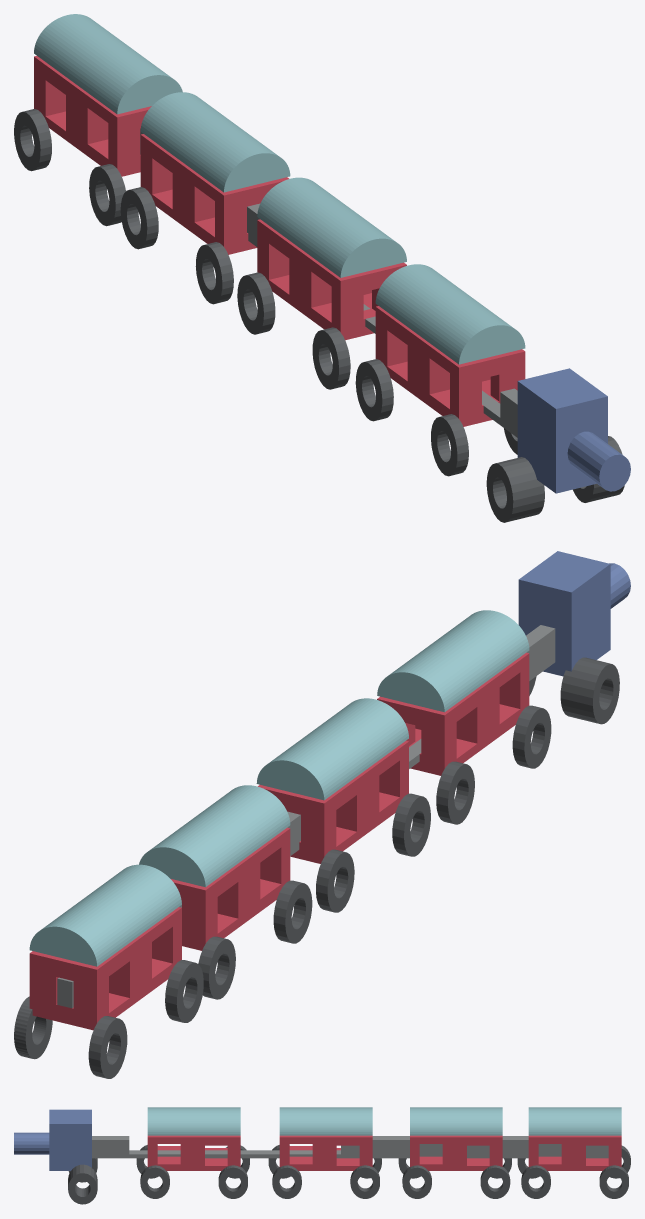
The model's file is Smooth Blad-Sango.glb.
3 views of the same model, one above another, from view 1: azimuth 30°, elevation 25°; view 2: azimuth 150°, elevation 25°; view 3: azimuth 270°, elevation 25° (orthographic). The views are drawn at different scales.
Parts seen in each view (by area): view 1: Mesh_Mesh_head_geo.001_lambert2SG.001; view 2: Mesh_Mesh_head_geo.001_lambert2SG.001; view 3: Mesh_Mesh_head_geo.001_lambert2SG.001.
Boxes of the visible parts, box(x1,y1,x2,y2) form: Mesh_Mesh_head_geo.001_lambert2SG.001: box(14, 14, 630, 522); Mesh_Mesh_head_geo.001_lambert2SG.001: box(14, 551, 630, 1078); Mesh_Mesh_head_geo.001_lambert2SG.001: box(14, 1107, 630, 1204).
Size of the model in its own units: 39 by 46.28 by 332.
